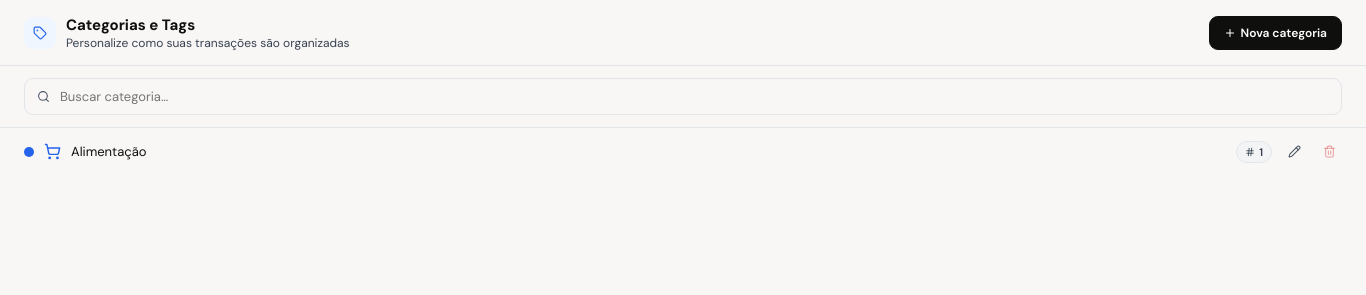
Test: CategoriesTagsSettingsPanel — categoria/tag do seed em inglês (regressão #77) › não cria tag duplicada ao digitar o rótulo PT que já é a tradução da tag seed, e limpa o input
The width and height of the screenshot is (1366, 295).
Click the button named "Expandir tags de Alimentação" at [1254, 152], box top-left (1236, 140), bottom-right (1272, 162)
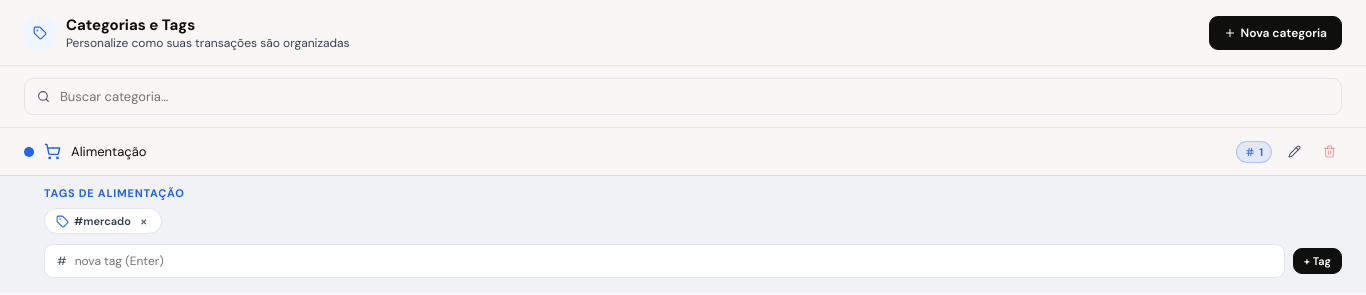
Check: the button "#mercado" is shown, box top-left (55, 213), bottom-right (132, 229)
Type "mercado" into the field named "Nova tag de Alimentação" at [672, 261], box top-left (73, 252), bottom-right (1272, 270)
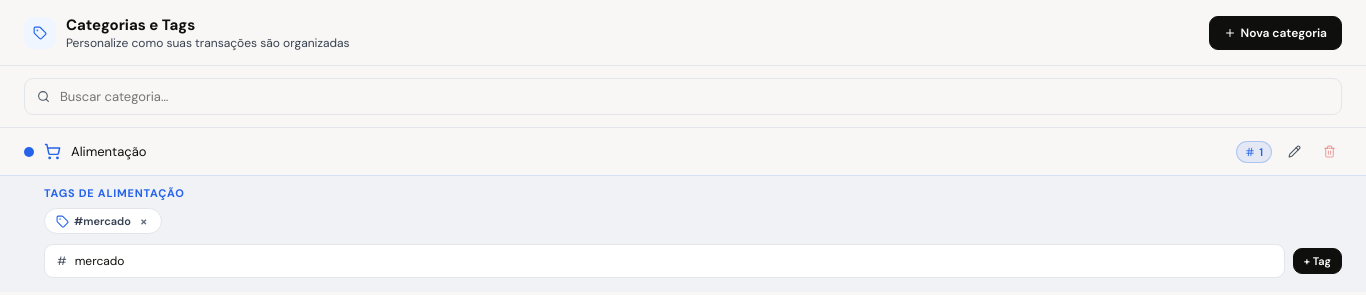
Press Enter in the field named "Nova tag de Alimentação", box top-left (73, 252), bottom-right (1272, 270)
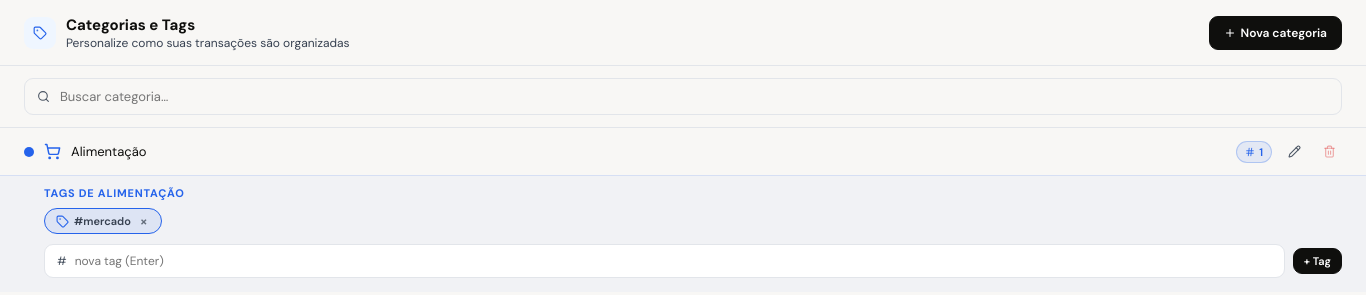
Check: the number of buttons "#mercado" is 1, box top-left (55, 213), bottom-right (132, 229)
Check: the field named "Nova tag de Alimentação" is empty, box top-left (73, 252), bottom-right (1272, 270)
